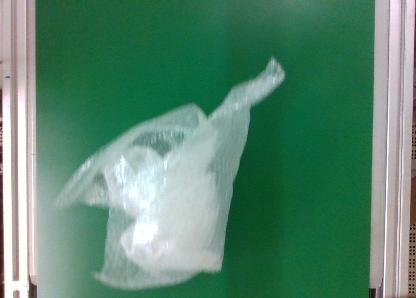Others: (59, 54, 287, 292)
